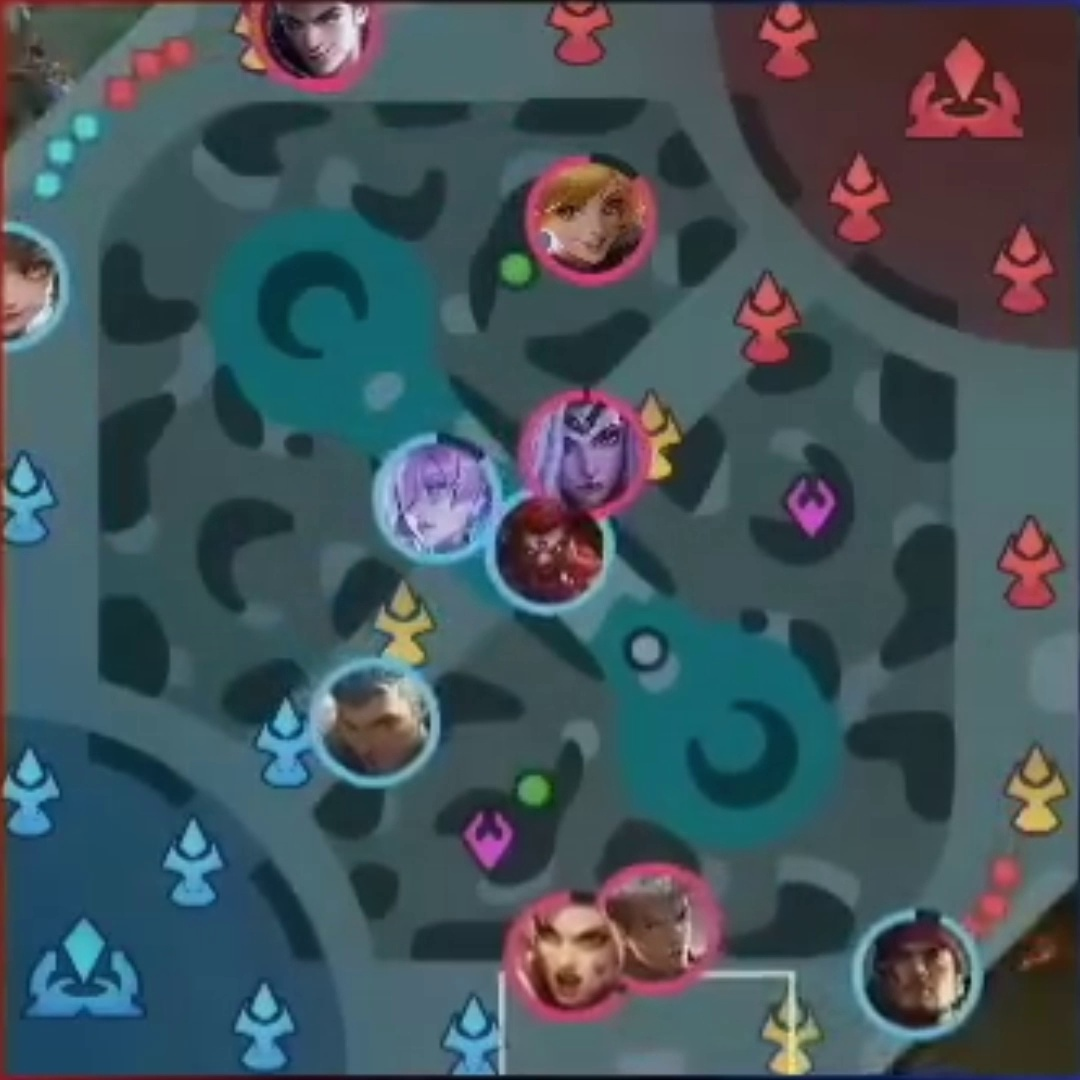Chou: (621, 871, 705, 984)
Claude: (270, 1, 368, 77)
Fanny: (540, 163, 642, 274)
Fredrinn: (314, 664, 428, 773)
Lapu-Lapu: (871, 918, 965, 1023)
Masha: (514, 895, 625, 1016)
Minotaur: (497, 501, 602, 608)
Novaria: (378, 444, 493, 552)
Valentina: (532, 400, 640, 503)
Wanwan: (1, 238, 59, 338)
